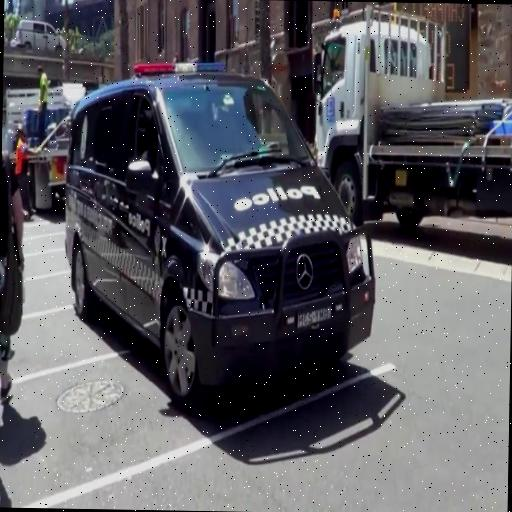Ambulance: (61, 56, 380, 394)
